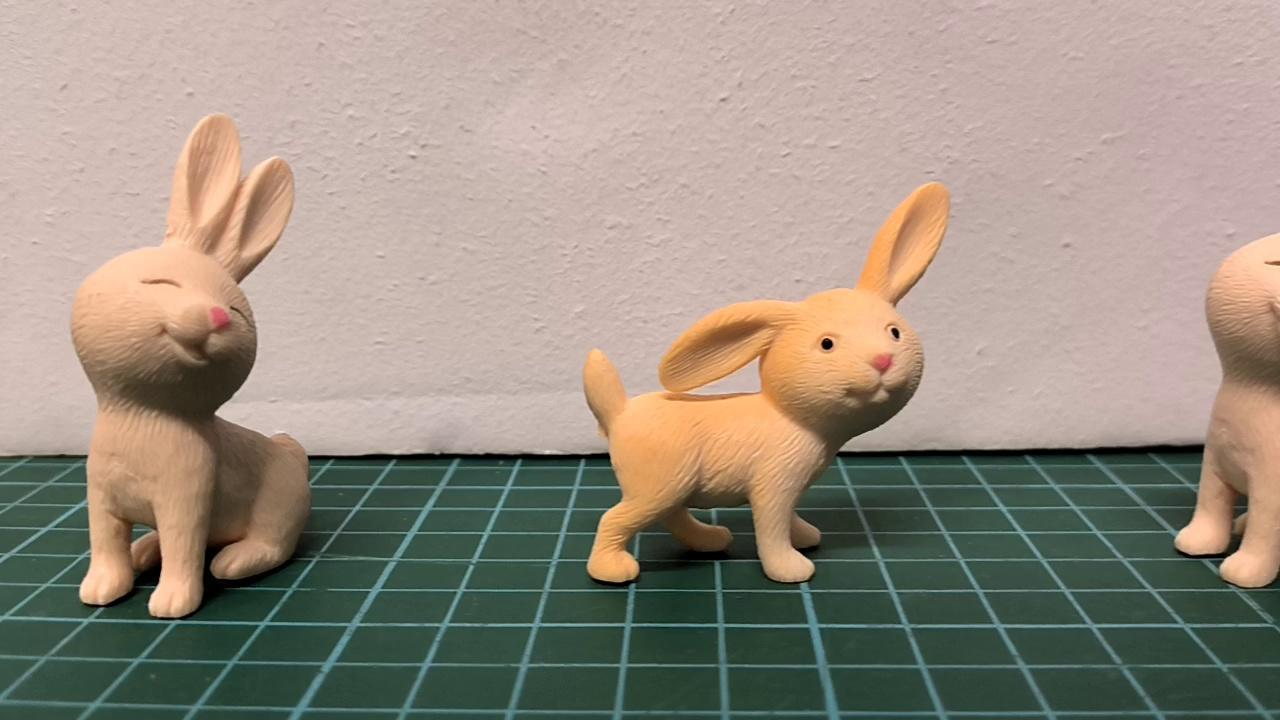pet: (585, 179, 950, 585), (70, 114, 310, 617), (1175, 232, 1280, 588)
